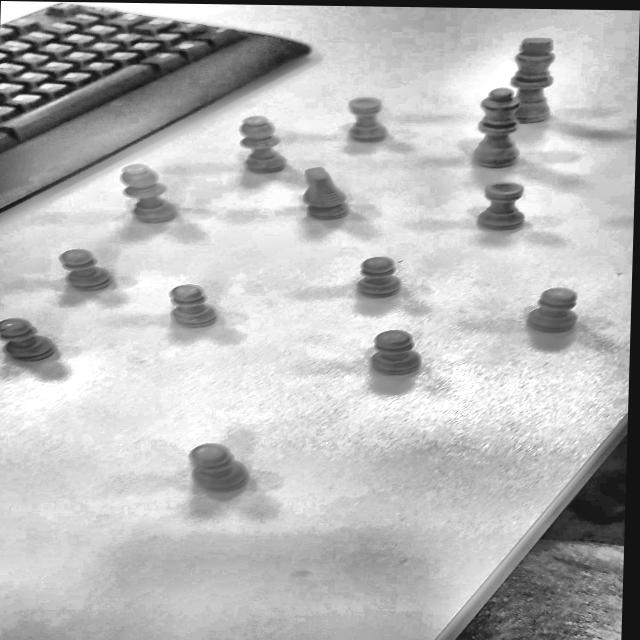white-bishop: (118, 163, 176, 222), (237, 116, 284, 172)
white-king: (509, 34, 556, 122)
white-knight: (302, 167, 349, 219)
white-pawn: (172, 432, 254, 504), (58, 245, 112, 290), (0, 318, 56, 361), (528, 285, 578, 332), (369, 329, 420, 375), (170, 283, 219, 327), (355, 255, 401, 296)
white-queen: (472, 88, 521, 167)
white-rook: (477, 181, 526, 230), (346, 96, 387, 141)
